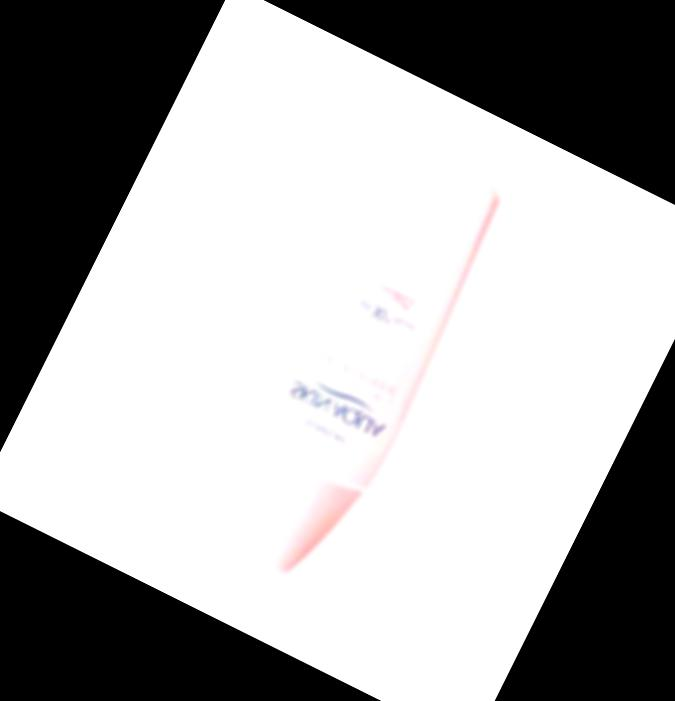cosmetic: (201, 136, 516, 596)
